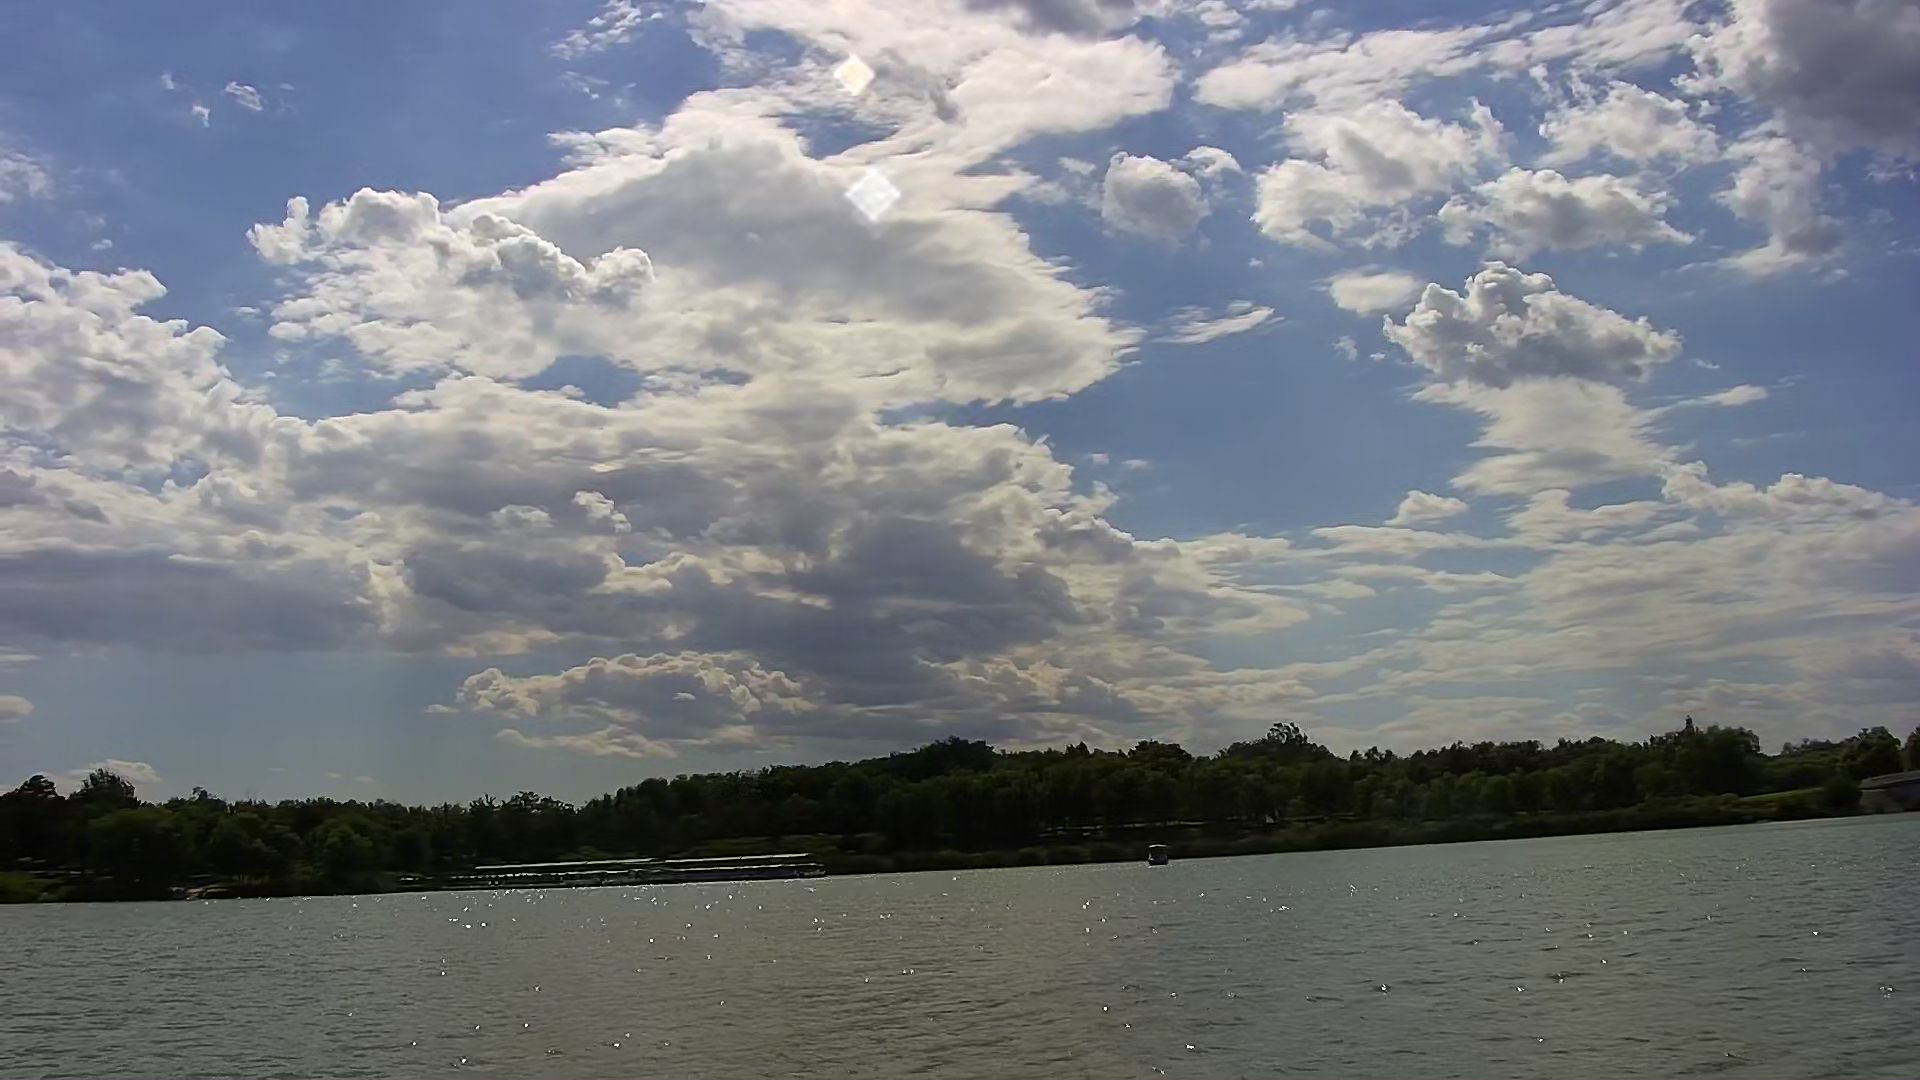boat: (1139, 835, 1170, 865)
harbor: (469, 847, 829, 889)
